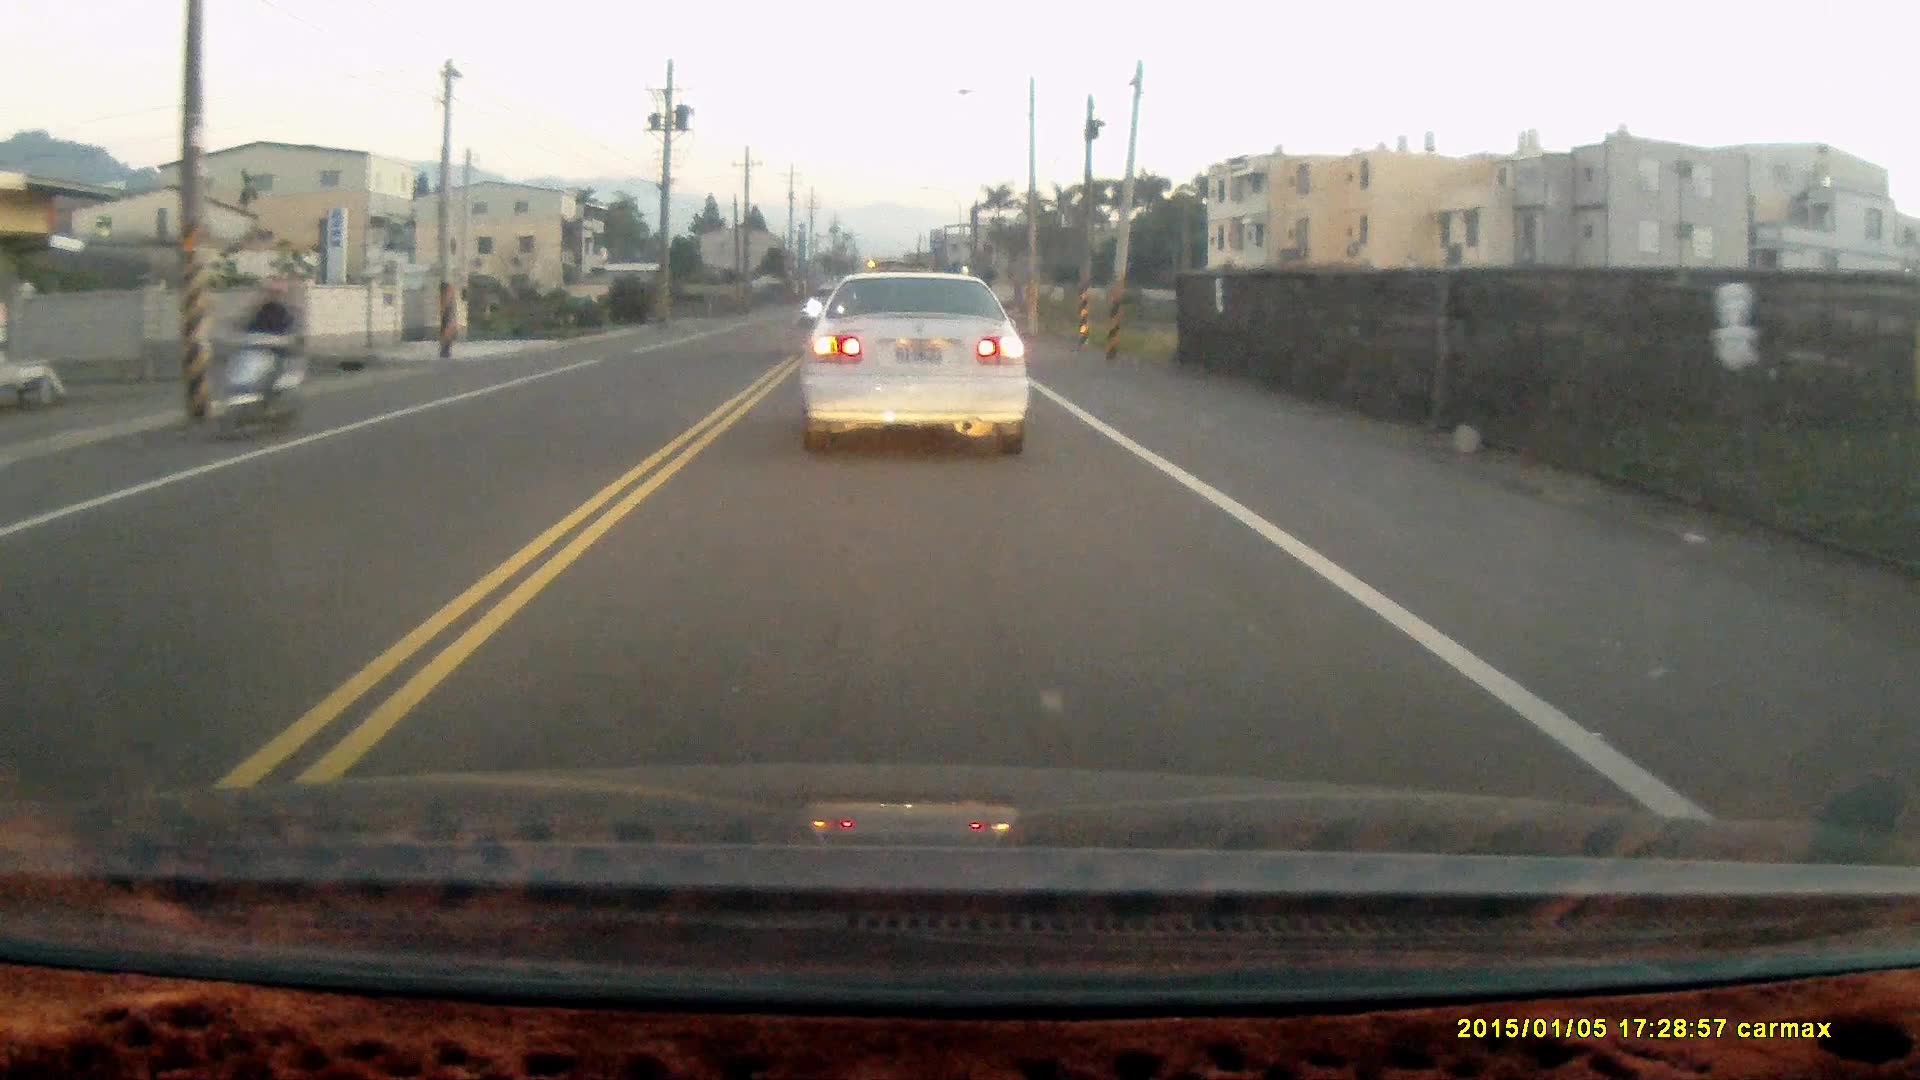rider: (210, 277, 304, 448)
vehicle: (796, 270, 1032, 459)
